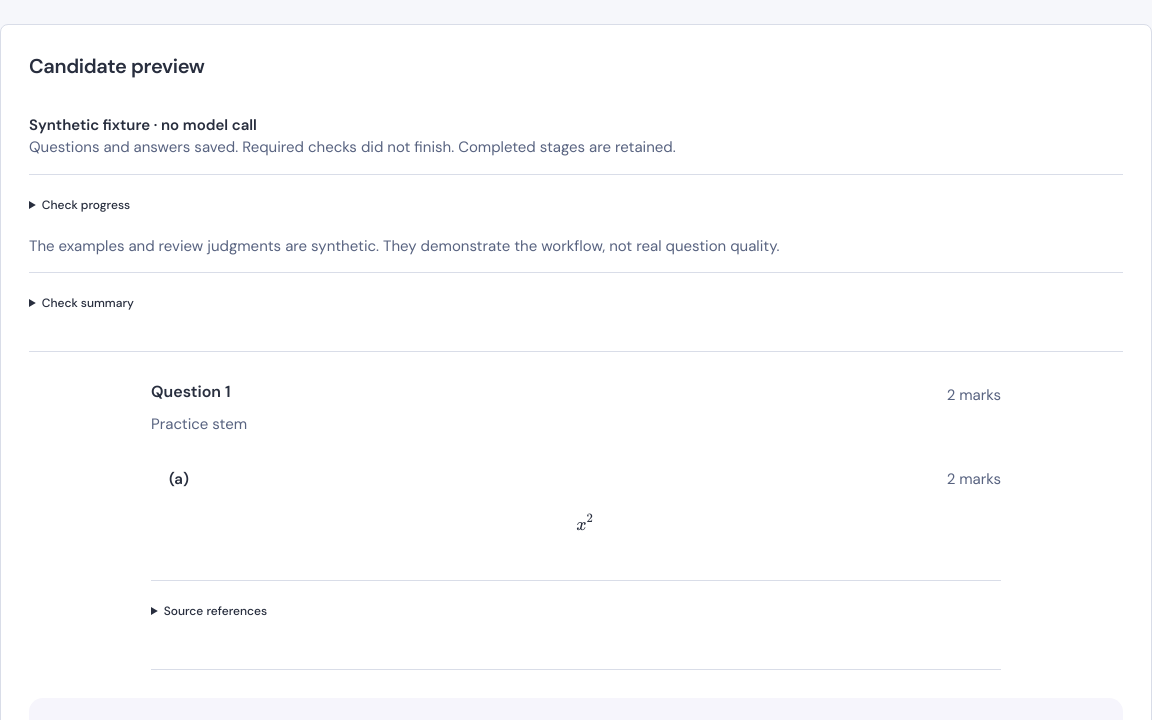
Test case: shows partial checks without offering a separate validation flow
The image size is (1152, 720).
Expected: the text "Questions and answers saved. Required checks did not finish. Completed stages are retained." is shown, top-left (29, 137), bottom-right (676, 157)
Click the heading "Check progress": click(86, 205) top-left (42, 197), bottom-right (130, 213)
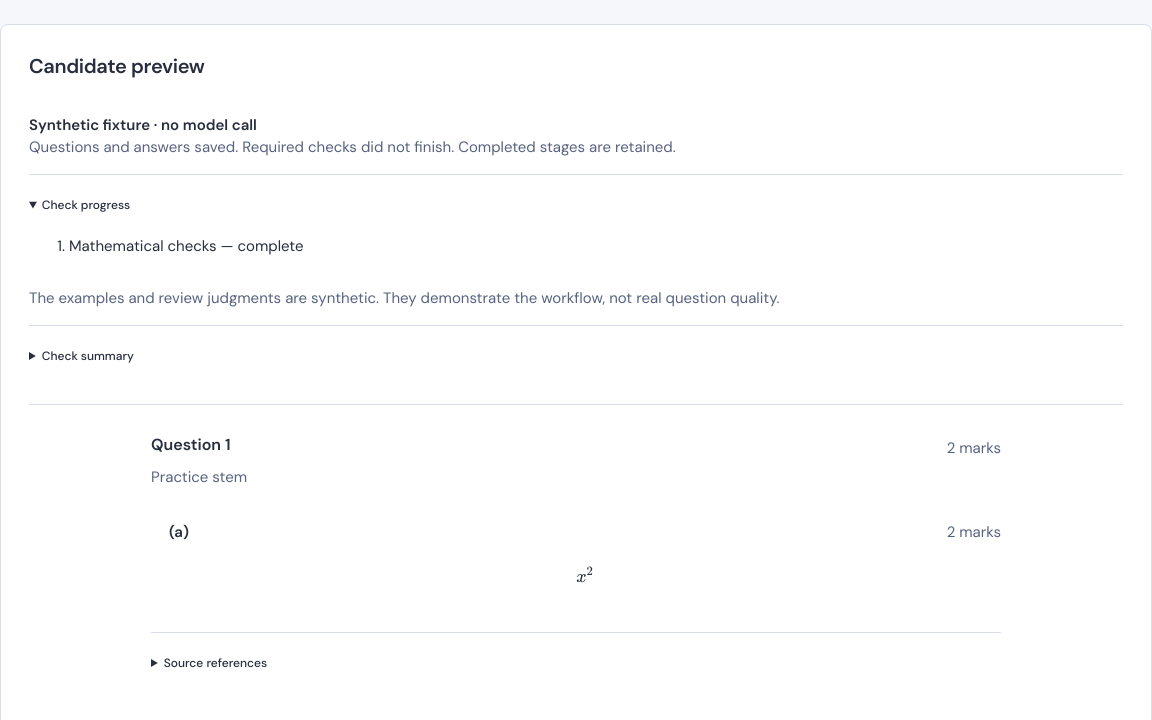
Result: the list item "Mathematical checks — complete" is shown at top-left (69, 236), bottom-right (304, 256)
